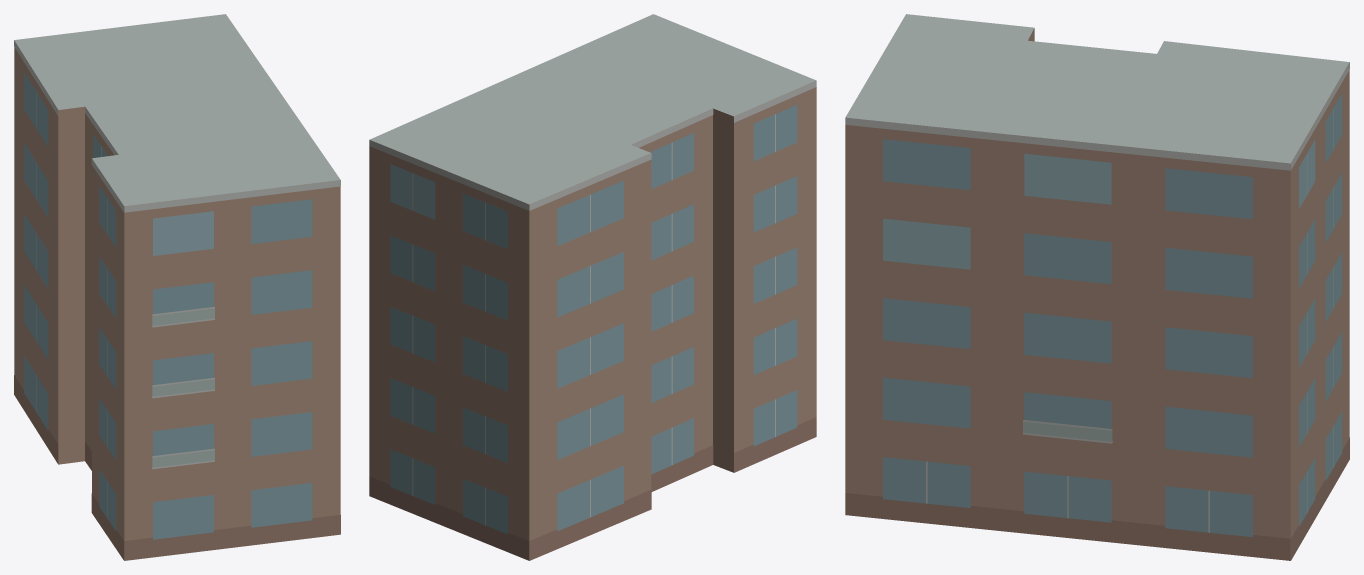
The model's file is survey-upis-32701632.glb.
The picture shows the model from 3 angles, left to right: view 1: azimuth 30°, elevation 25°; view 2: azimuth 150°, elevation 25°; view 3: azimuth 270°, elevation 25°; orthographic projection. The views are drawn at different scales.
Visible parts, largest first — view 1: survey-upis-32701632.tmp; view 2: survey-upis-32701632.tmp; view 3: survey-upis-32701632.tmp.
Part boxes in pixels (left/top/right/bottom): survey-upis-32701632.tmp: left=14, top=14, right=340, bottom=560; survey-upis-32701632.tmp: left=369, top=14, right=816, bottom=560; survey-upis-32701632.tmp: left=845, top=14, right=1349, bottom=560.
Size of the model in its own units: 10.9 by 13.5 by 15.54.
